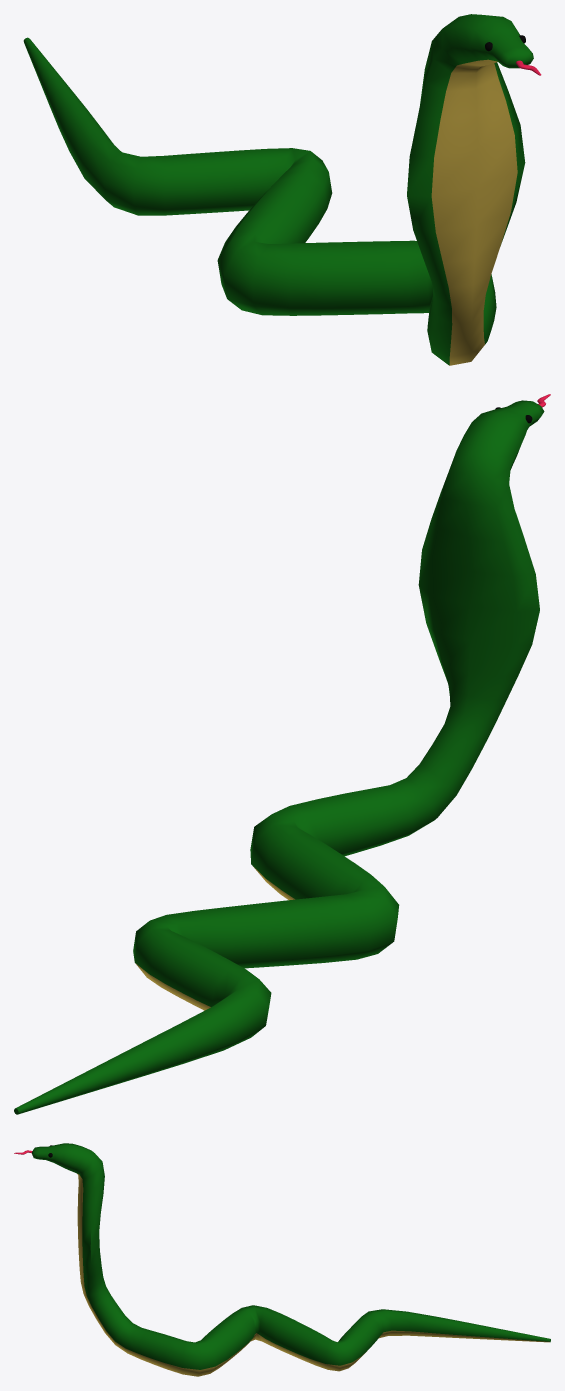
File: SnakeF(T).fbx
3 views of the same model, one above another, from view 1: azimuth 30°, elevation 25°; view 2: azimuth 150°, elevation 25°; view 3: azimuth 270°, elevation 25° (orthographic). The views are drawn at different scales.
Parts seen in each view (by area): view 1: Snake; view 2: Snake; view 3: Snake.
Boxes of the visible parts, x1,y1,x2,y2 form: Snake: [23, 14, 541, 365]; Snake: [14, 394, 550, 1114]; Snake: [14, 1143, 550, 1376].
Bounding box in the file's own units: 152 × 290 × 684.
